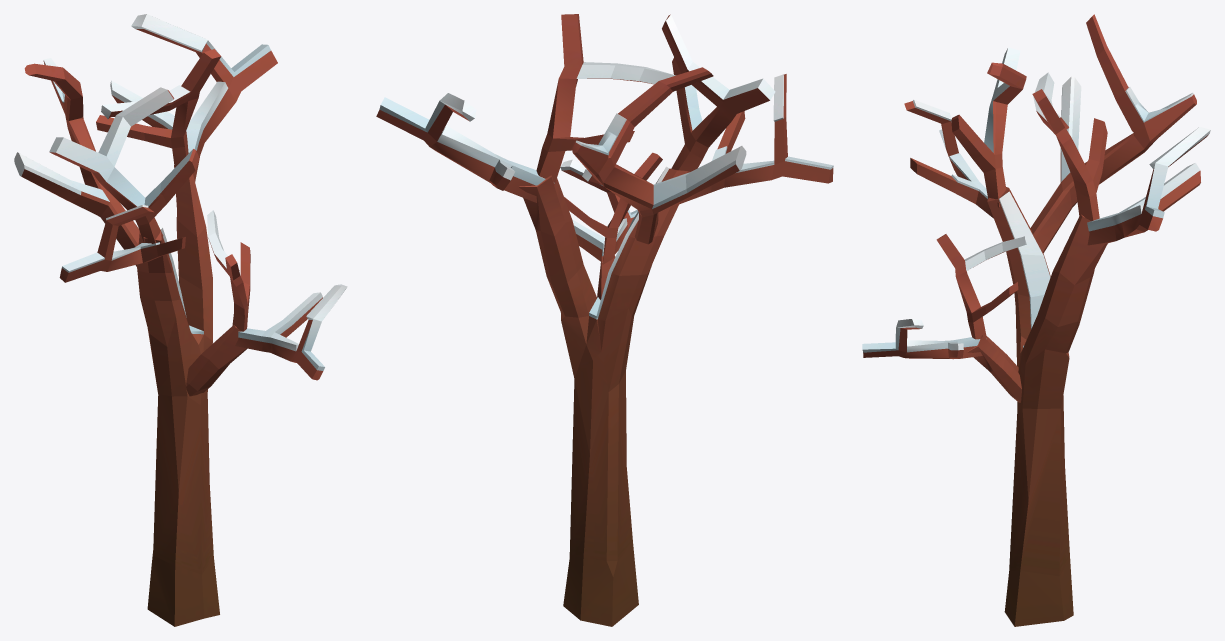
3 renders of one model, left to right at view 1: azimuth 30°, elevation 25°; view 2: azimuth 150°, elevation 25°; view 3: azimuth 270°, elevation 25°, orthographic. The views are drawn at different scales.
Visible parts, largest first — view 1: SnowyDeadTree2; view 2: SnowyDeadTree2; view 3: SnowyDeadTree2.
Part boxes in pixels (bbox=[...]): SnowyDeadTree2: bbox=[14, 14, 347, 626]; SnowyDeadTree2: bbox=[376, 14, 833, 626]; SnowyDeadTree2: bbox=[862, 14, 1210, 626].
Size of the model in its own units: 298 by 500 by 291.
1 material, 1 textured.
